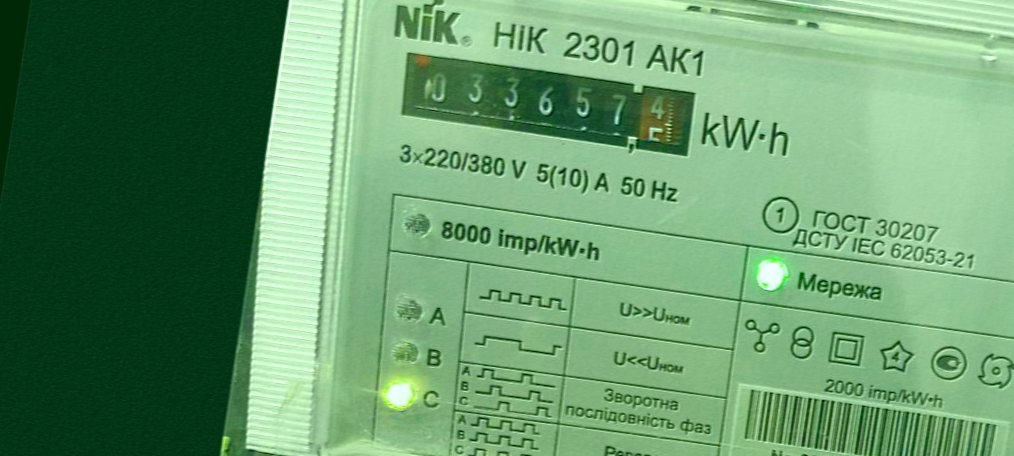0: (426, 68, 452, 108)
3: (464, 70, 488, 108), (500, 75, 523, 112)
4: (647, 92, 670, 124)
5: (569, 83, 596, 122)
6: (533, 83, 558, 120)
7: (606, 91, 629, 129)
screen: (385, 41, 706, 169)
